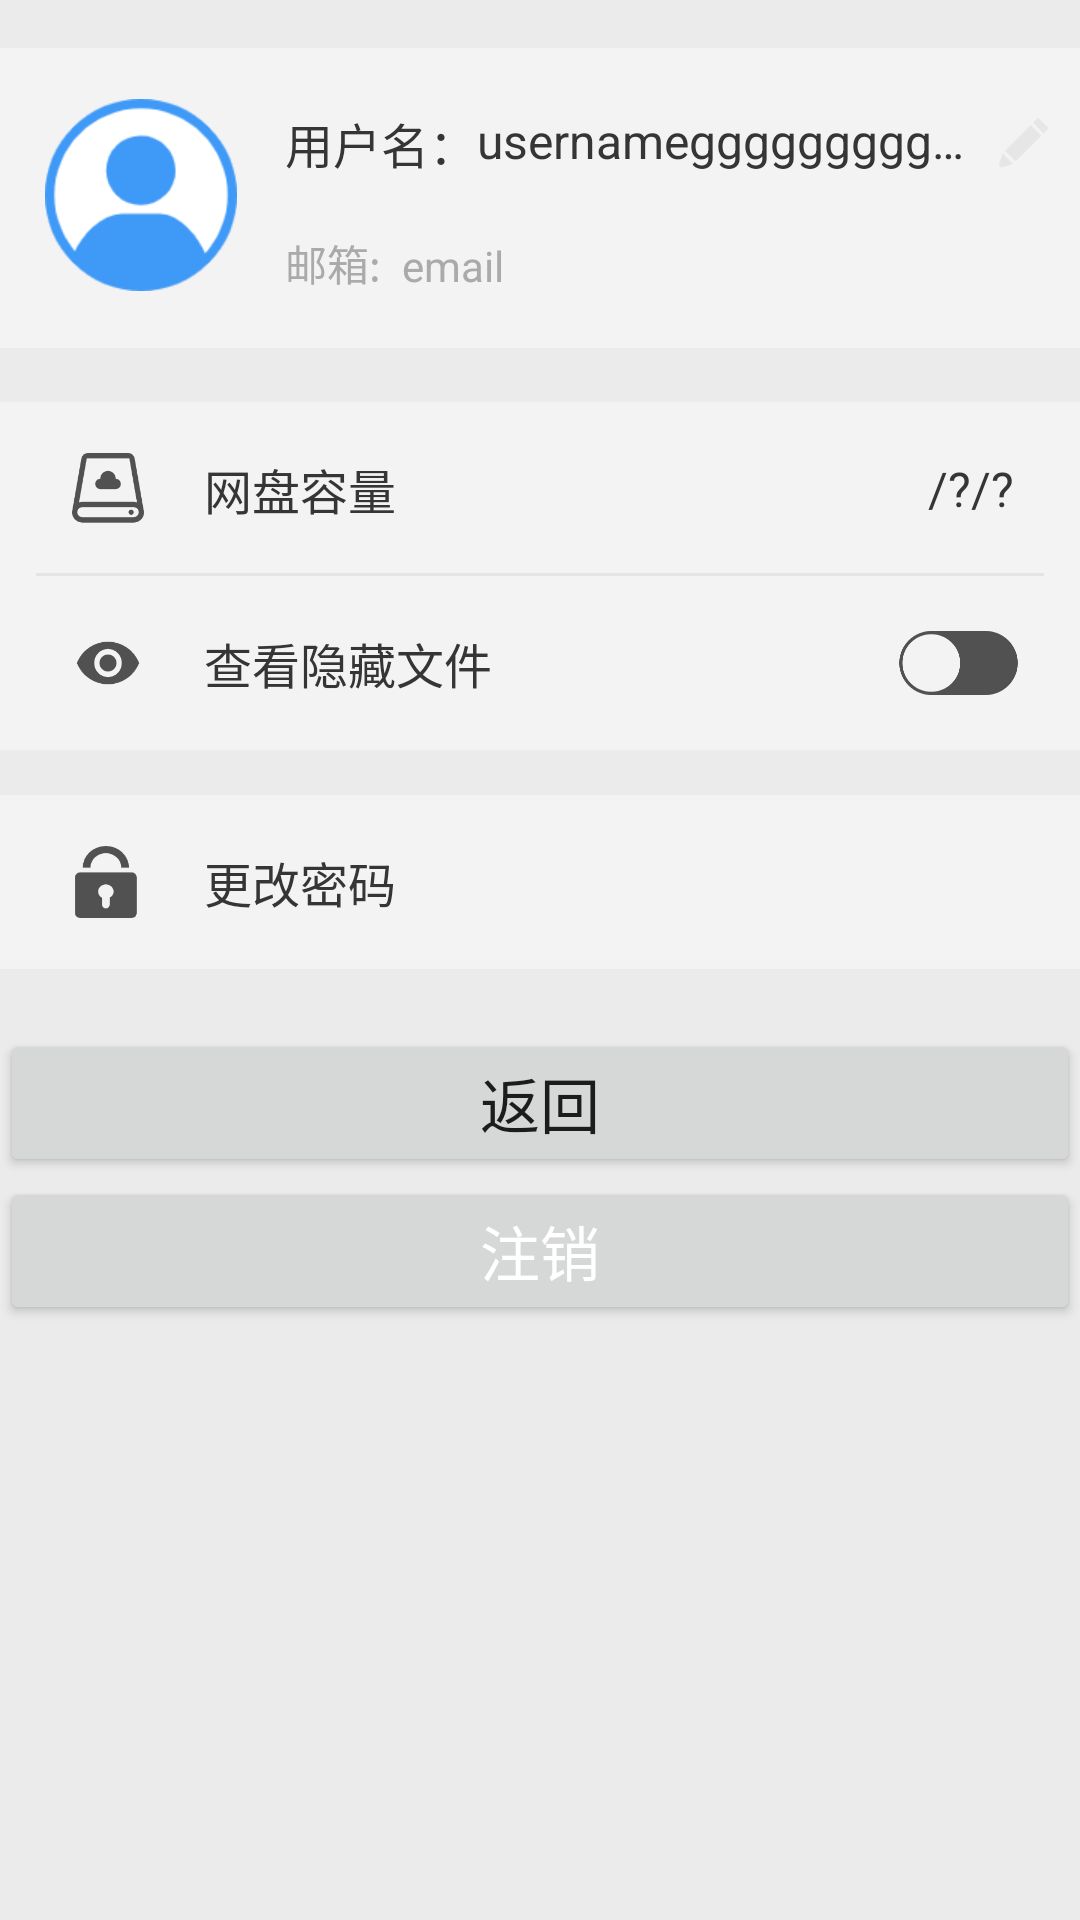

Locate icon controls on the screen. Image size 1080 × 1920, boxes as (x1, y1, x2, y2).
eye: (77, 641, 139, 685)
headpic: (45, 99, 237, 291)
lock: (75, 846, 137, 918)
